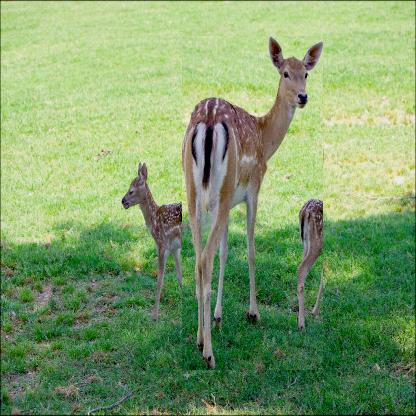Deer: (182, 36, 323, 370), (122, 164, 210, 335)
